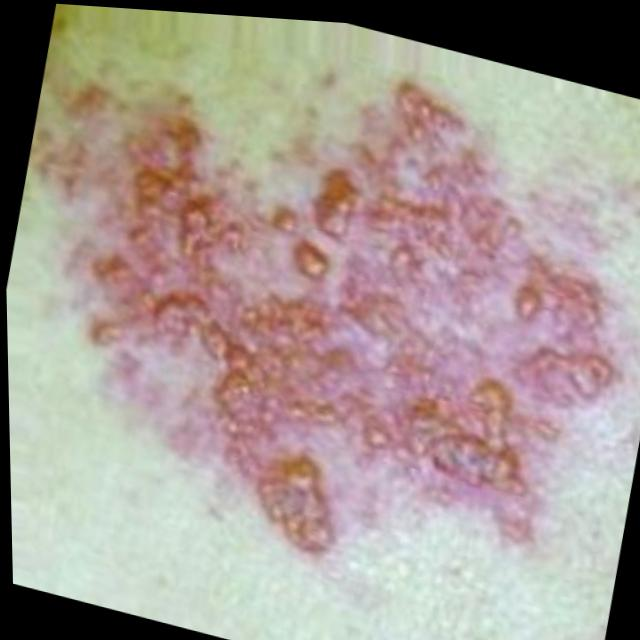Shingles: (9, 34, 638, 601)
